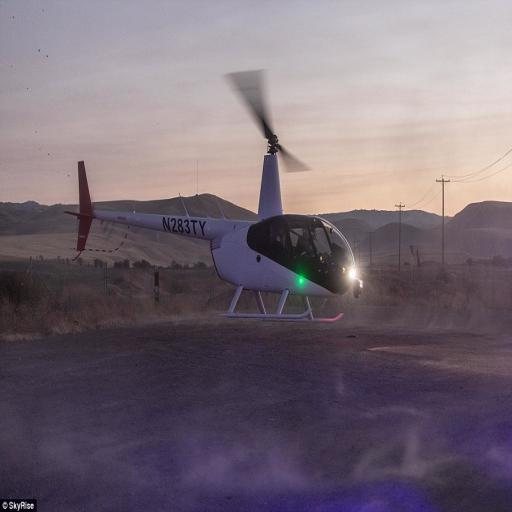helicopter: (75, 67, 363, 332)
